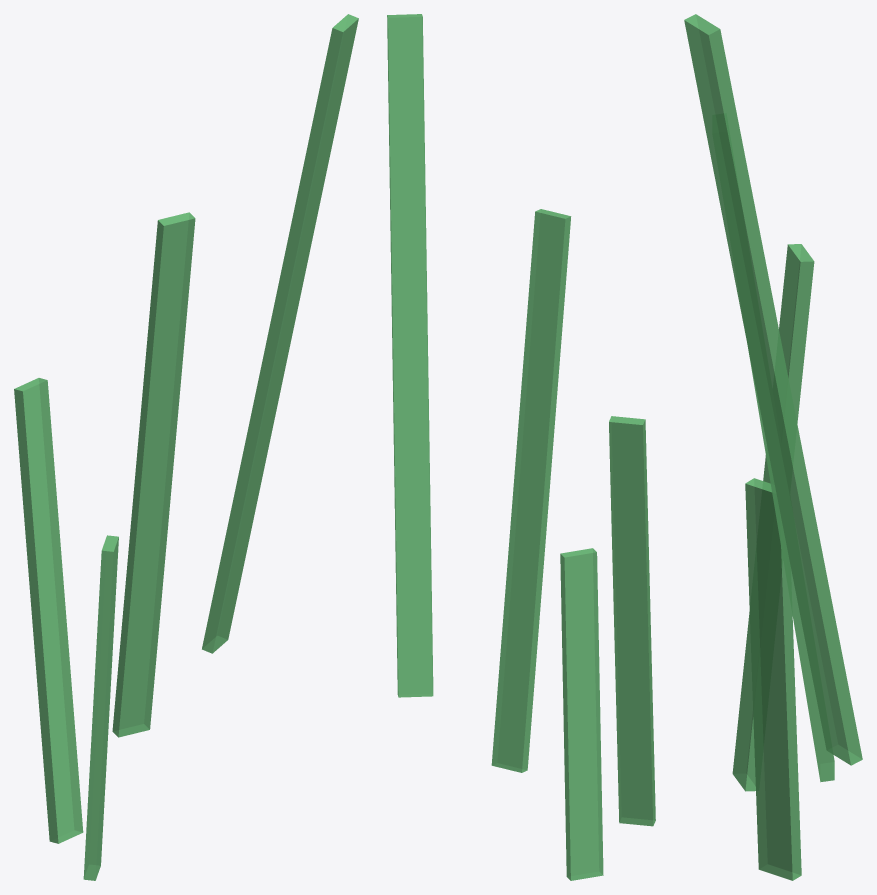
Rendered from seaweed.glb.
The picture shows the model from 3 angles, left to right: view 1: azimuth 30°, elevation 25°; view 2: azimuth 150°, elevation 25°; view 3: azimuth 270°, elevation 25°; orthographic projection. The views are drawn at different scales.
Visible parts, largest first — view 1: Cube, Cube.001, Cube.002, Cube.003; view 2: Cube.002, Cube, Cube.001, Cube.003; view 3: Cube.002, Cube.003, Cube.001, Cube.
Part boxes in pixels (x1,y1,x2,y2): Cube: (112, 212, 195, 737); Cube.001: (14, 378, 83, 843); Cube.002: (202, 14, 358, 653); Cube.003: (83, 535, 118, 880); Cube.002: (387, 14, 433, 697); Cube: (491, 209, 571, 772); Cube.001: (609, 416, 655, 826); Cube.003: (560, 548, 603, 880); Cube.002: (684, 14, 862, 765); Cube.003: (745, 478, 801, 880); Cube.001: (732, 244, 814, 791); Cube: (748, 348, 834, 782).
Bounding box in the file's own units: 0.2905 × 0.7451 × 0.1234.
